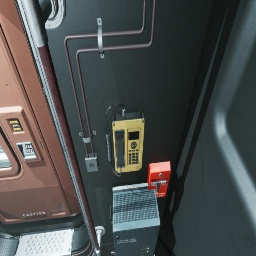EmergencyPhone ,: (106, 104, 145, 177)
FireAlarm ,: (146, 161, 171, 198)
